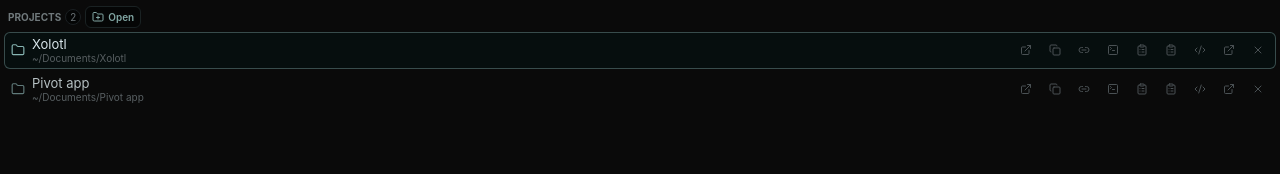
Test: ProjectsSection › shows recovery guidance when the external terminal handoff fails
Click the button named "Open Xolotl in external terminal": (1229, 50) 1218,39 -> 1240,61
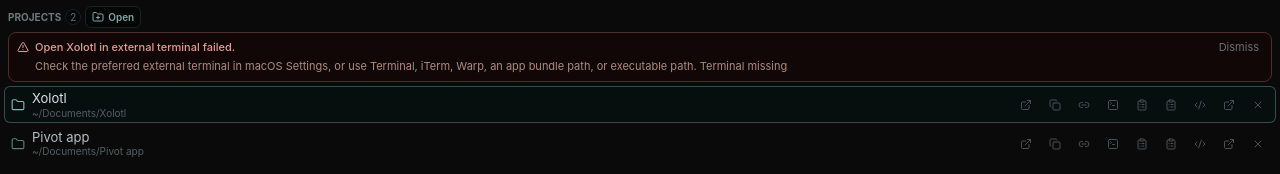
Now the text "Open Xolotl in external terminal failed." is shown, box 35,40 -> 235,54
Now the text "Terminal missing" is shown, box 35,58 -> 787,72
